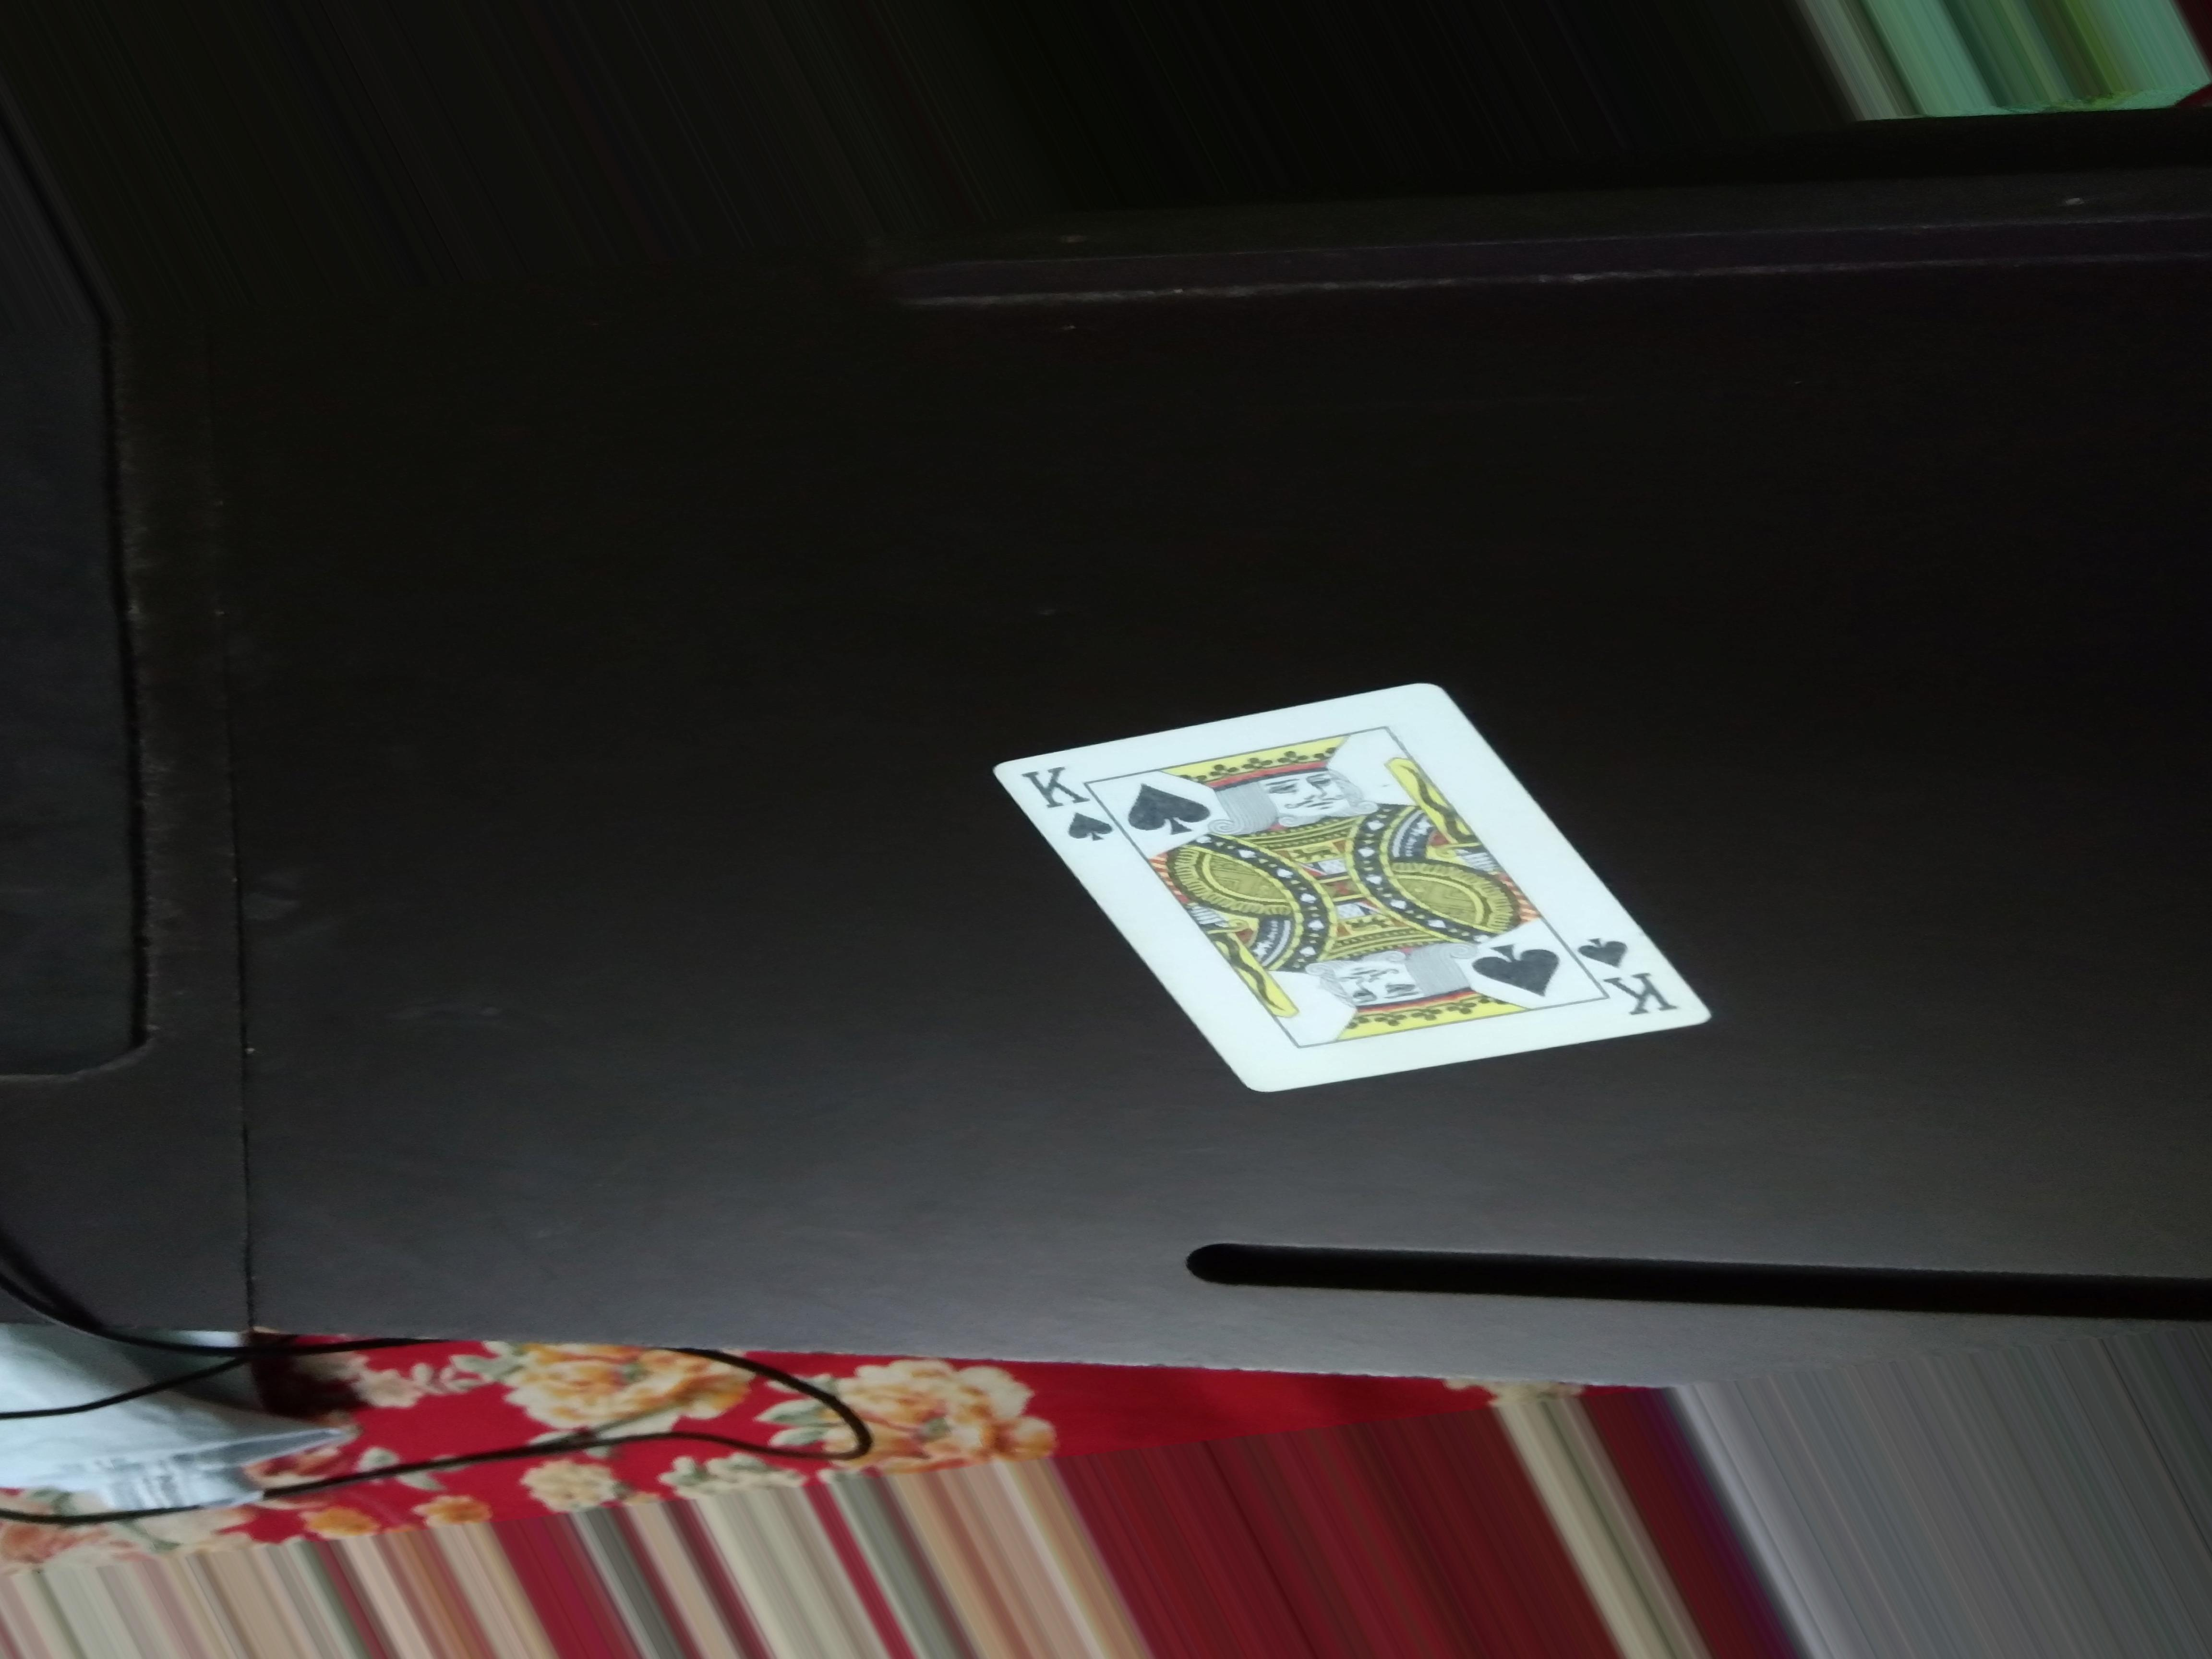KS: (1022, 762, 1113, 847)
